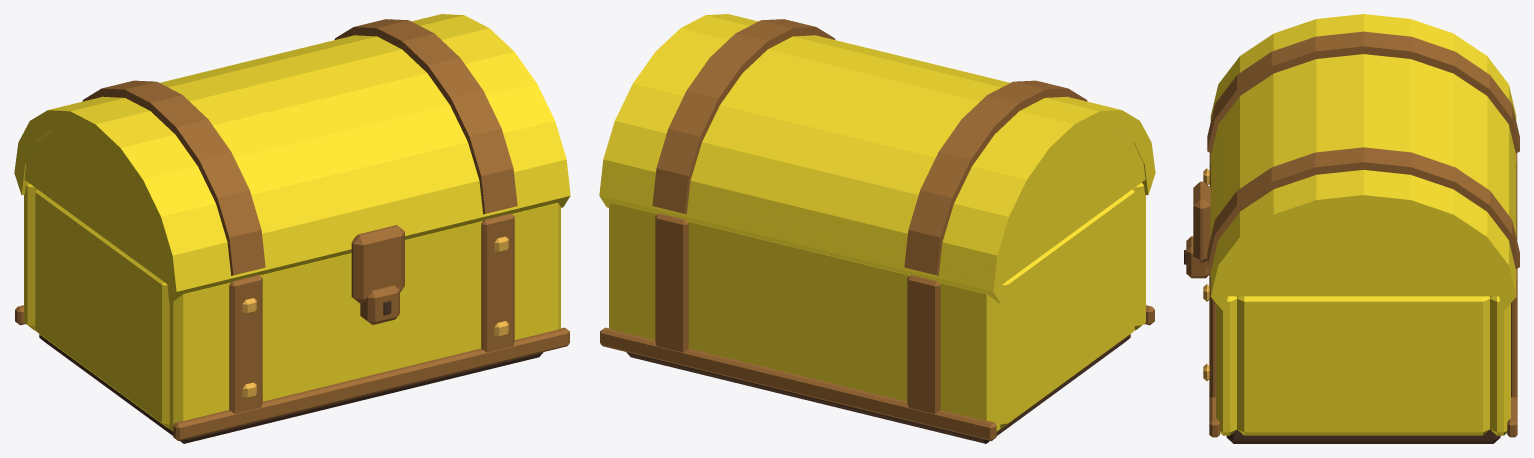
File: gold_chest.glb
3 renders of one model, left to right at view 1: azimuth 30°, elevation 25°; view 2: azimuth 150°, elevation 25°; view 3: azimuth 270°, elevation 25°, orthographic. The views are drawn at different scales.
Visible parts, largest first — view 1: MOBP_gold_chest_arched_lid, MOBP_gold_chest_front, MOBP_gold_chest_left, MOBP_gold_chest_lid_end_-1, MOBP_gold_chest_lid_band_0.039, MOBP_gold_chest_lid_band_-0.039, MOBP_gold_chest_lower_rail_-0.0424, MOBP_gold_chest_body_strap_-0.039_-0.042600000000000006, MOBP_gold_chest_body_strap_0.039_-0.042600000000000006, MOBP_gold_chest_lid_latch, MOBP_gold_chest_bottom, MOBP_gold_chest_back (+1 smaller); view 2: MOBP_gold_chest_arched_lid, MOBP_gold_chest_back, MOBP_gold_chest_left, MOBP_gold_chest_lid_end_-1, MOBP_gold_chest_lid_band_0.039, MOBP_gold_chest_lid_band_-0.039, MOBP_gold_chest_lower_rail_0.0424, MOBP_gold_chest_body_strap_-0.039_0.042600000000000006, MOBP_gold_chest_body_strap_0.039_0.042600000000000006, MOBP_gold_chest_bottom, MOBP_gold_chest_front; view 3: MOBP_gold_chest_arched_lid, MOBP_gold_chest_right, MOBP_gold_chest_lid_end_1, MOBP_gold_chest_lid_band_-0.039, MOBP_gold_chest_lid_band_0.039, MOBP_gold_chest_back, MOBP_gold_chest_front, MOBP_gold_chest_bottom, MOBP_gold_chest_lid_latch, MOBP_gold_chest_body_strap_0.039_-0.042600000000000006, MOBP_gold_chest_body_strap_0.039_0.042600000000000006, MOBP_gold_chest_latch_keeper (+2 smaller).
Part boxes in pixels (left/top/right/bottom): MOBP_gold_chest_arched_lid: left=14, top=14, right=570, bottom=303; MOBP_gold_chest_front: left=169, top=203, right=560, bottom=431; MOBP_gold_chest_left: left=35, top=189, right=169, bottom=428; MOBP_gold_chest_lid_end_-1: left=24, top=130, right=167, bottom=283; MOBP_gold_chest_lid_band_0.039: left=334, top=19, right=517, bottom=214; MOBP_gold_chest_lid_band_-0.039: left=82, top=80, right=265, bottom=275; MOBP_gold_chest_lower_rail_-0.0424: left=173, top=327, right=569, bottom=440; MOBP_gold_chest_body_strap_-0.039_-0.042600000000000006: left=229, top=275, right=262, bottom=413; MOBP_gold_chest_body_strap_0.039_-0.042600000000000006: left=481, top=213, right=514, bottom=352; MOBP_gold_chest_lid_latch: left=351, top=225, right=404, bottom=303; MOBP_gold_chest_bottom: left=39, top=334, right=543, bottom=443; MOBP_gold_chest_back: left=24, top=183, right=36, bottom=330; MOBP_gold_chest_arched_lid: left=599, top=14, right=1155, bottom=303; MOBP_gold_chest_back: left=609, top=203, right=1000, bottom=431; MOBP_gold_chest_left: left=1000, top=189, right=1134, bottom=428; MOBP_gold_chest_lid_end_-1: left=1002, top=130, right=1145, bottom=283; MOBP_gold_chest_lid_band_0.039: left=652, top=19, right=835, bottom=214; MOBP_gold_chest_lid_band_-0.039: left=904, top=80, right=1087, bottom=275; MOBP_gold_chest_lower_rail_0.0424: left=600, top=327, right=996, bottom=440; MOBP_gold_chest_body_strap_-0.039_0.042600000000000006: left=907, top=275, right=940, bottom=413; MOBP_gold_chest_body_strap_0.039_0.042600000000000006: left=655, top=213, right=688, bottom=352; MOBP_gold_chest_bottom: left=626, top=334, right=1130, bottom=443; MOBP_gold_chest_front: left=1133, top=183, right=1145, bottom=330; MOBP_gold_chest_arched_lid: left=1210, top=14, right=1516, bottom=312; MOBP_gold_chest_right: left=1237, top=296, right=1489, bottom=435; MOBP_gold_chest_lid_end_1: left=1228, top=211, right=1498, bottom=296; MOBP_gold_chest_lid_band_-0.039: left=1207, top=31, right=1519, bottom=153; MOBP_gold_chest_lid_band_0.039: left=1207, top=147, right=1519, bottom=268; MOBP_gold_chest_back: left=1490, top=296, right=1510, bottom=435; MOBP_gold_chest_front: left=1216, top=296, right=1236, bottom=435; MOBP_gold_chest_bottom: left=1226, top=429, right=1500, bottom=443; MOBP_gold_chest_lid_latch: left=1193, top=181, right=1210, bottom=262; MOBP_gold_chest_body_strap_0.039_-0.042600000000000006: left=1209, top=269, right=1215, bottom=397; MOBP_gold_chest_body_strap_0.039_0.042600000000000006: left=1511, top=269, right=1517, bottom=397; MOBP_gold_chest_latch_keeper: left=1186, top=236, right=1209, bottom=278.
Size of the model in its own units: 0.122 by 0.0834 by 0.0956.
